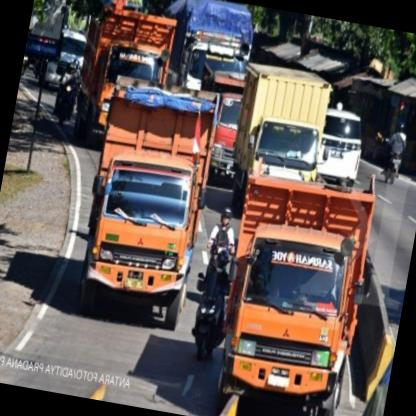truck: (209, 213, 366, 416), (74, 144, 206, 334), (242, 113, 327, 196)
